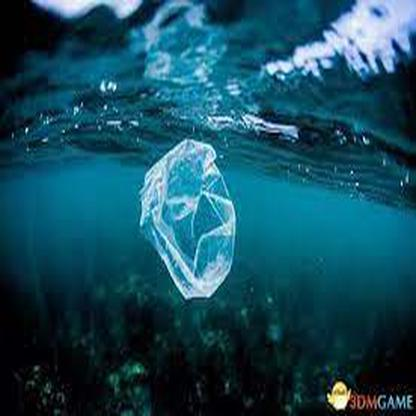plastic bag: (138, 138, 235, 300)
